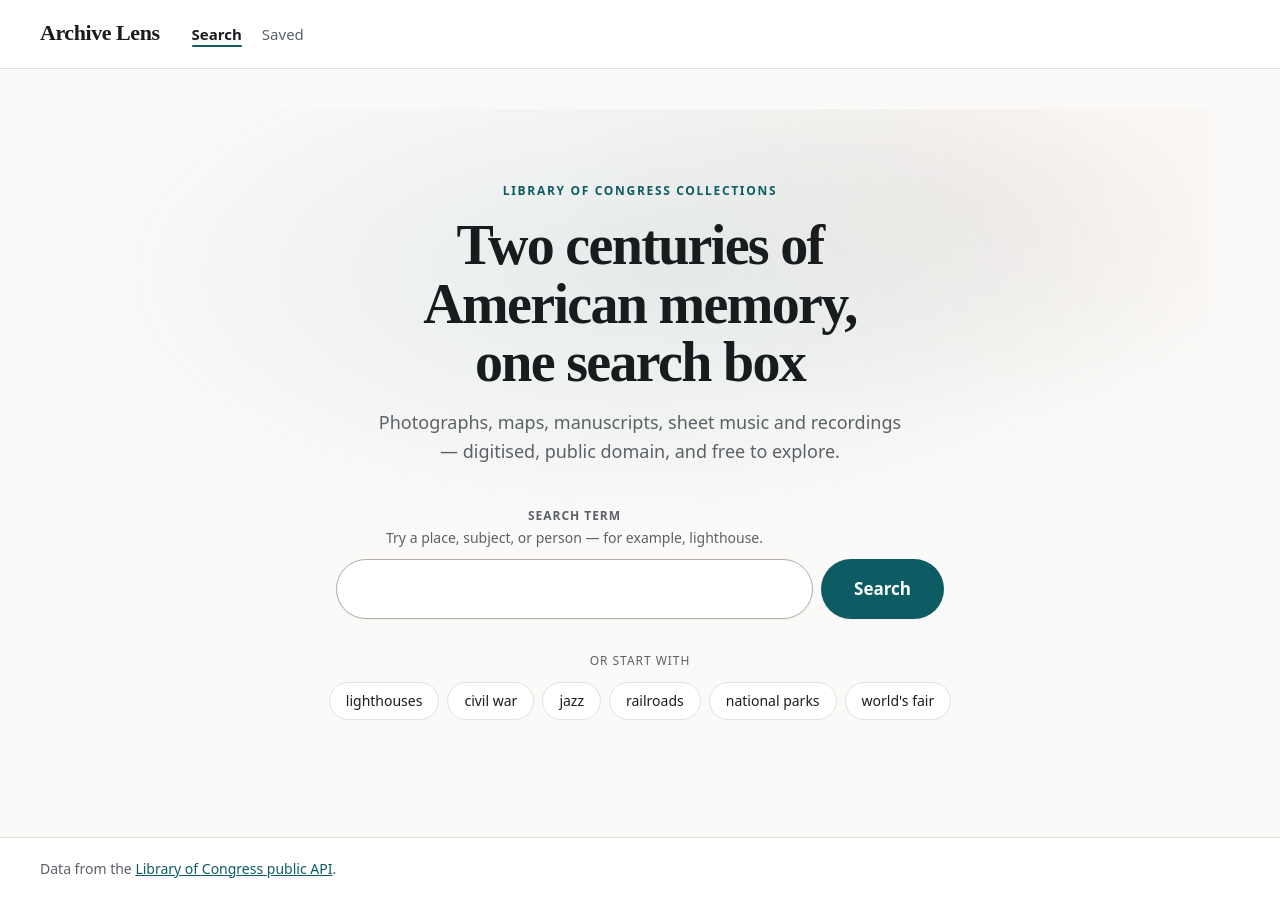
Test case: Searching the collection › puts the query in the URL and renders results
Type "lighthouse" into the search field with id "search-query". click: [575, 589]
box: [336,559,813,618]
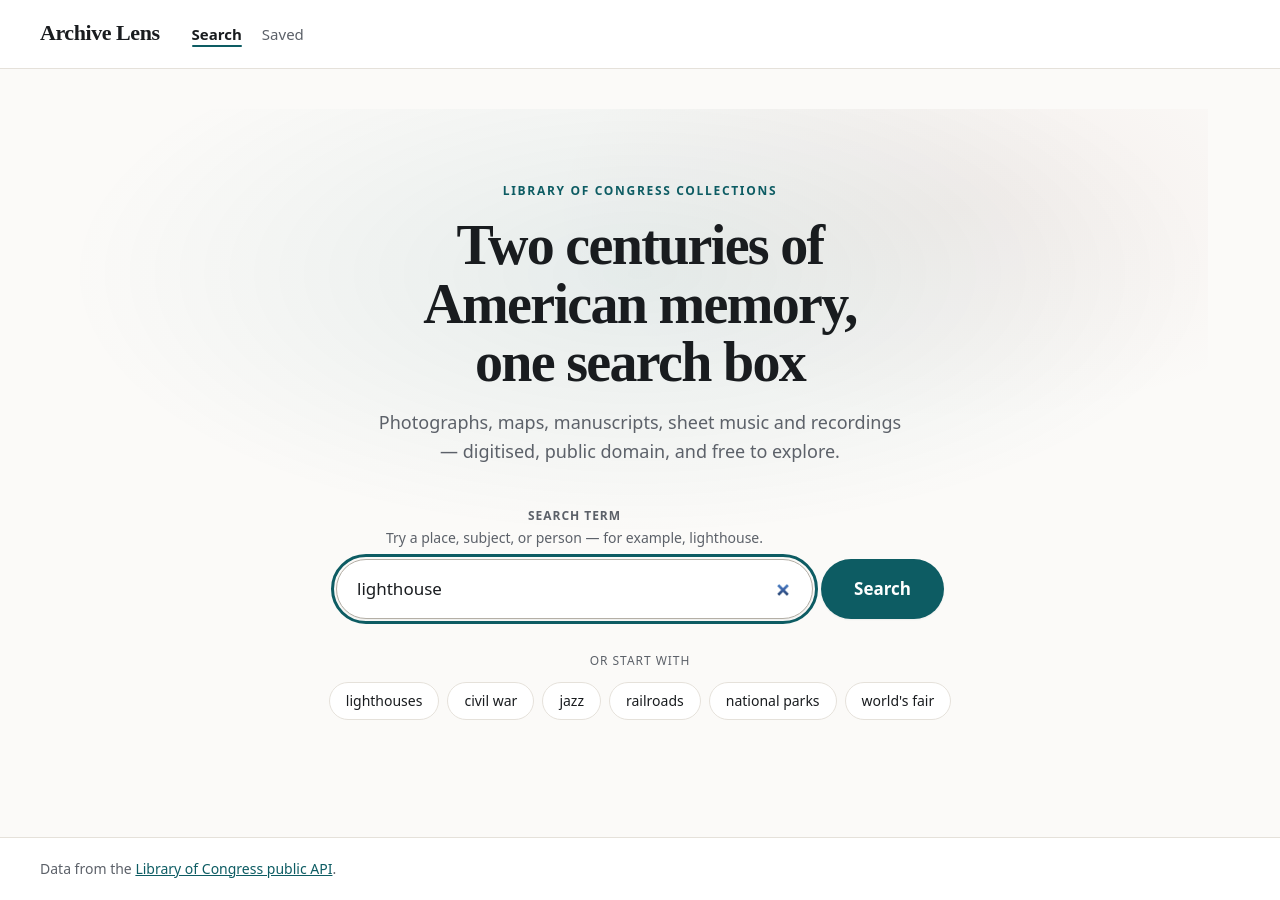
Click the button "Search". click: [883, 589]
box: [821,559,944,618]
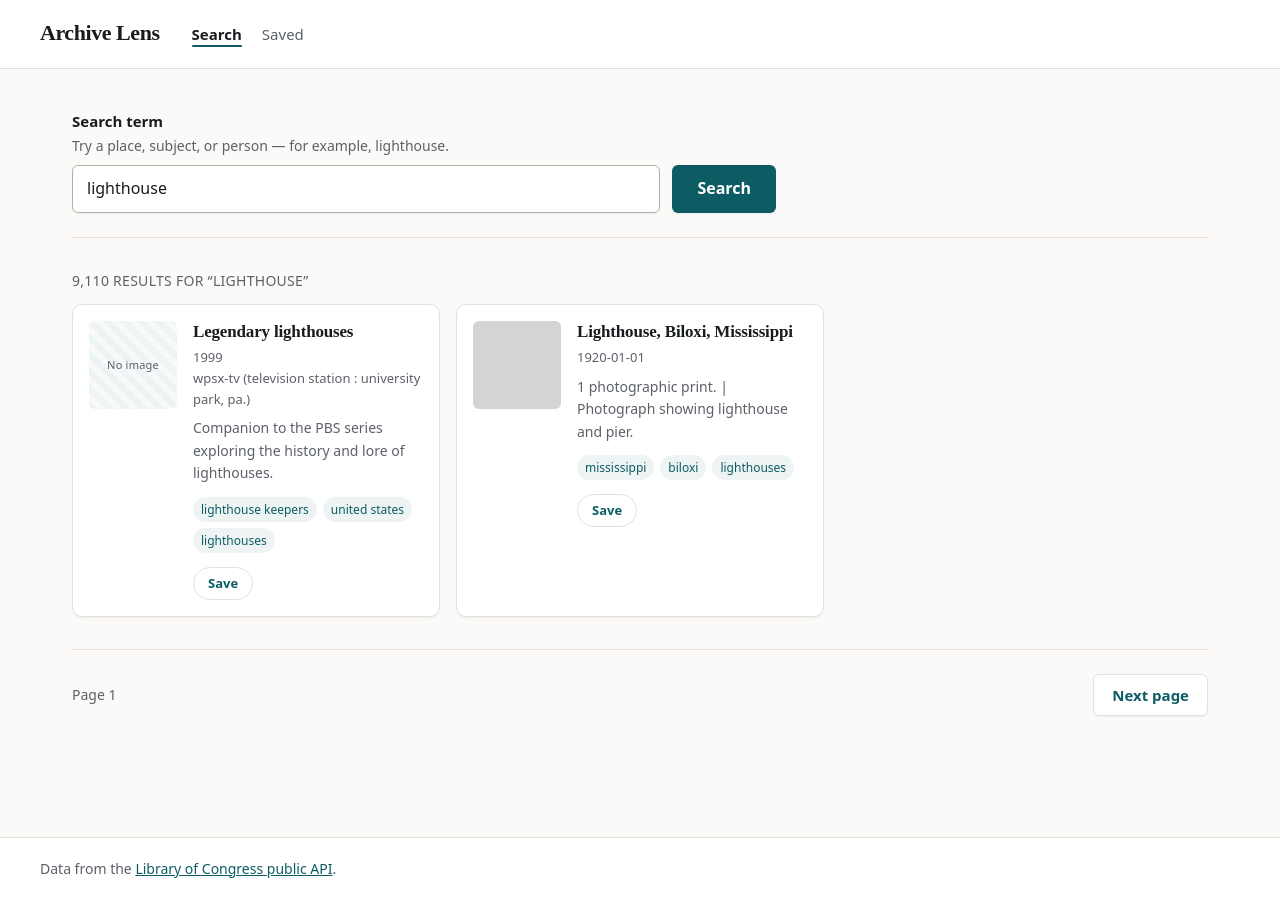
Expected: the text "9,110 results found" is shown, [71,109,330,131]
Now the link "Legendary lighthouses" is shown, box [193,322,353,341]
